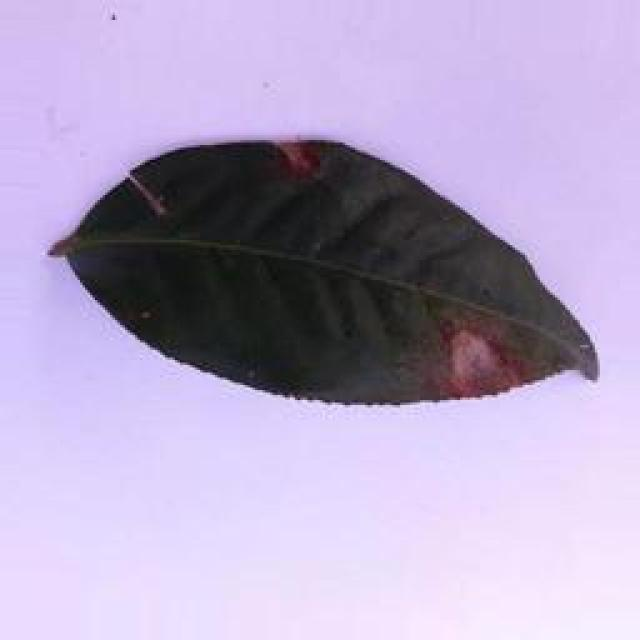Gray Blight: (49, 132, 598, 414)
